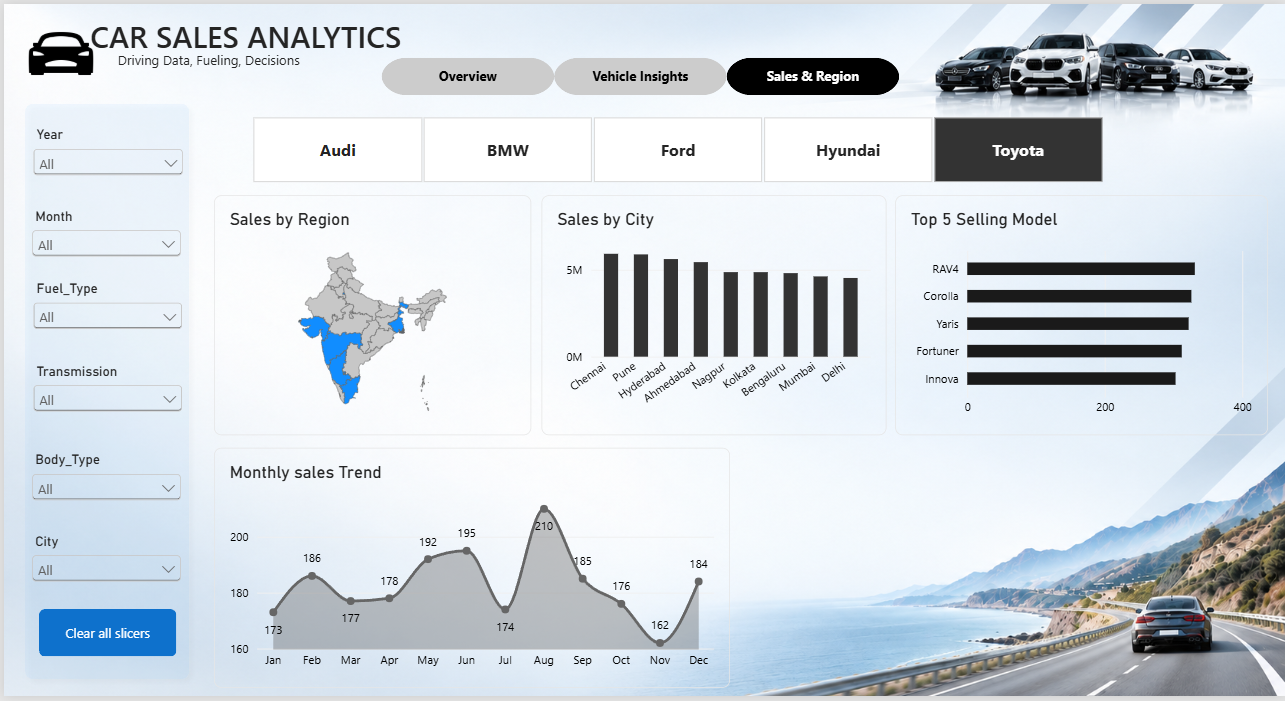

Layout of this report page (visuals, bound fields, positions):
{"tool":"powerbi","page":{"name":"Sales & Region","canvas":[1366,739],"ordinal":2},"visuals":[{"type":"shape","box":[13.3,97.3,193.3,632],"z":1},{"type":"shapeMap","title":"Sales by Region","fields":{"Category":["Car Sales Data.State"],"Series":["Car Sales Data.Brand"],"Value":["Measure.Total Sales"]},"box":[224,204,338.7,256],"z":5},{"type":"clusteredColumnChart","title":"Sales by City","fields":{"Category":["Car Sales Data.City"],"Y":["Measure.Total Sales"]},"box":[573.3,204,368,256],"z":6},{"type":"areaChart","title":"Monthly sales Trend","fields":{"Category":["Car Sales Data.Month"],"Y":["Measure.Total Cars Sold"]},"box":[224,473.3,550.7,256],"z":7},{"type":"clusteredBarChart","title":"Top 5 Selling Model","fields":{"Category":["Car Sales Data.Model"],"Y":["Measure.Total Cars Sold"]},"box":[950.7,204,397.3,256],"z":8},{"type":"slicer","fields":{"Values":["Car Sales Data.Brand"]},"box":[245.3,118.7,945.3,73.3],"z":9},{"type":"slicer","fields":{"Values":["Car Sales Data.Month"]},"box":[25.3,217.3,168,64],"z":11},{"type":"slicer","fields":{"Values":["Car Sales Data.Fuel_Type"]},"box":[26.7,294.7,168,64],"z":12},{"type":"slicer","fields":{"Values":["Car Sales Data.Transmission"]},"box":[26.7,382.7,168,64],"z":13},{"type":"slicer","fields":{"Values":["Car Sales Data.Body_Type"]},"box":[25.3,477.3,168,64],"z":14},{"type":"slicer","fields":{"Values":["Car Sales Data.City"]},"box":[25.3,564,168,64],"z":15},{"type":"actionButton","box":[37.3,645.3,146.7,50.7],"z":16},{"type":"textbox","box":[92,12,380,54.7],"z":18},{"type":"textbox","box":[121.3,49.3,246.7,20],"z":19},{"type":"actionButton","box":[402.7,57.3,184.4,39.9],"z":20},{"type":"actionButton","box":[586.7,57.3,184.4,39.9],"z":21},{"type":"actionButton","box":[770.7,57.3,184.4,39.9],"z":22},{"type":"slicer","fields":{"Values":["Car Sales Data.Year"]},"box":[26.7,130.7,169.3,73.3],"z":23},{"type":"image","box":[12,16,97.3,73.3],"z":24}]}

Visuals, with their boxes in screenshot pixels (x1, y1, x2, y2), scaled from the page's 1366x739 canvas onto the 1285x701 screenshot:
shape: detection(13, 92, 194, 692)
"Sales by Region" shapeMap: detection(211, 194, 529, 436)
"Sales by City" clusteredColumnChart: detection(539, 194, 885, 436)
"Monthly sales Trend" areaChart: detection(211, 449, 729, 692)
"Top 5 Selling Model" clusteredBarChart: detection(894, 194, 1268, 436)
slicer - Car Sales Data.Brand: detection(231, 113, 1120, 182)
slicer - Car Sales Data.Month: detection(24, 206, 182, 267)
slicer - Car Sales Data.Fuel_Type: detection(25, 280, 183, 340)
slicer - Car Sales Data.Transmission: detection(25, 363, 183, 424)
slicer - Car Sales Data.Body_Type: detection(24, 453, 182, 513)
slicer - Car Sales Data.City: detection(24, 535, 182, 596)
actionButton: detection(35, 612, 173, 660)
textbox: detection(87, 11, 444, 63)
textbox: detection(114, 47, 346, 66)
actionButton: detection(379, 54, 552, 92)
actionButton: detection(552, 54, 725, 92)
actionButton: detection(725, 54, 898, 92)
slicer - Car Sales Data.Year: detection(25, 124, 184, 194)
image: detection(11, 15, 103, 85)
